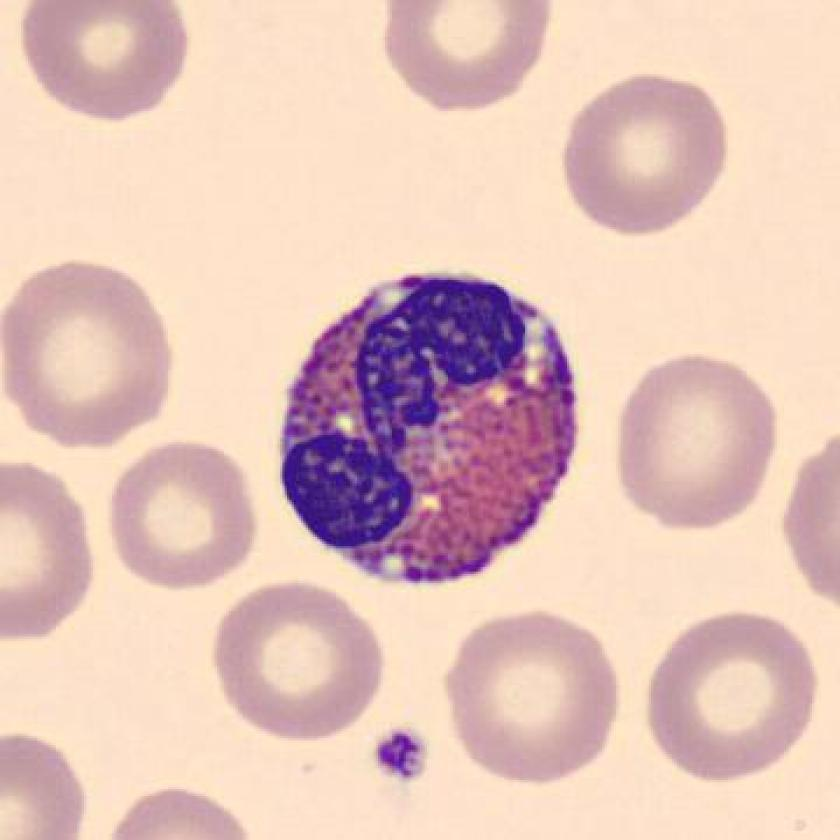eosinophil: (269, 260, 594, 603)
